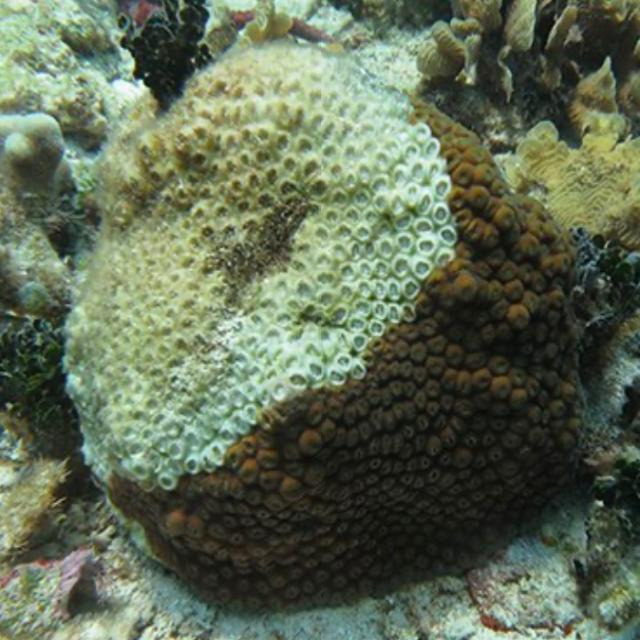Coral: (60, 43, 586, 612), (503, 112, 640, 249)
